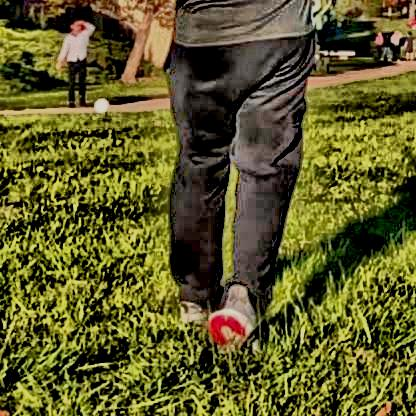golfball: (91, 94, 106, 111)
